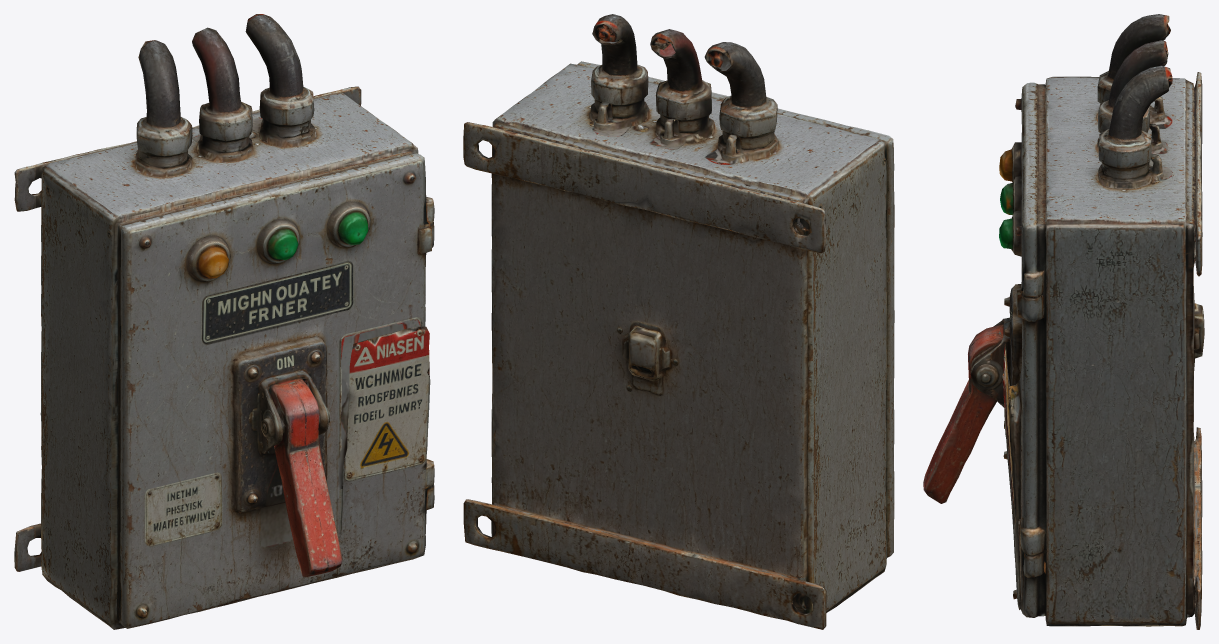
Rendered from BKI_LeverPanel.fbx.
The picture shows the model from 3 angles, left to right: view 1: azimuth 30°, elevation 25°; view 2: azimuth 150°, elevation 25°; view 3: azimuth 270°, elevation 25°; orthographic projection. The views are drawn at different scales.
Visible parts, largest first — view 1: texture_mapping; view 2: texture_mapping; view 3: texture_mapping.
Part boxes in pixels (x1=…): texture_mapping: x1=14, y1=14, x2=434, y2=629; texture_mapping: x1=463, y1=14, x2=894, y2=629; texture_mapping: x1=923, y1=14, x2=1204, y2=629.
Size of the model in its own units: 0.6899 by 0.4944 by 0.9979.
1 material, 1 textured.
